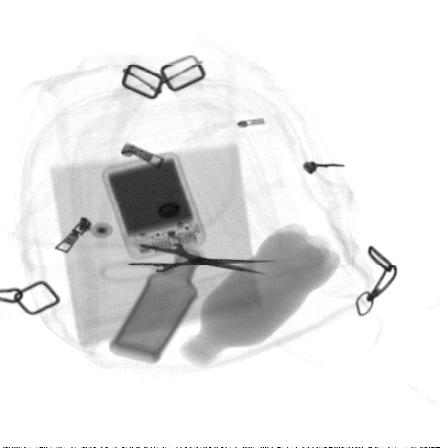Powerbank: (101, 151, 210, 261)
Scissors: (101, 223, 275, 284)
